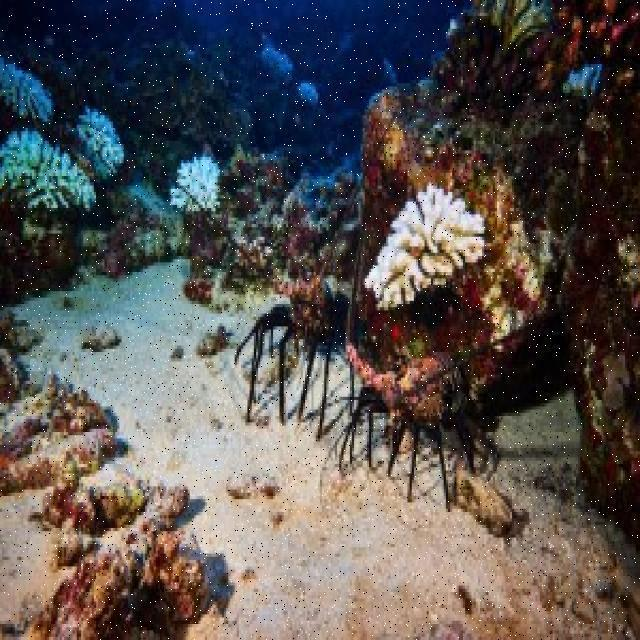Bleached: (364, 196, 481, 315), (3, 125, 100, 214), (175, 145, 223, 222), (1, 56, 54, 116), (79, 110, 115, 182), (265, 36, 291, 75), (300, 84, 318, 103)
Healthy: (443, 4, 640, 183), (111, 8, 229, 127)
